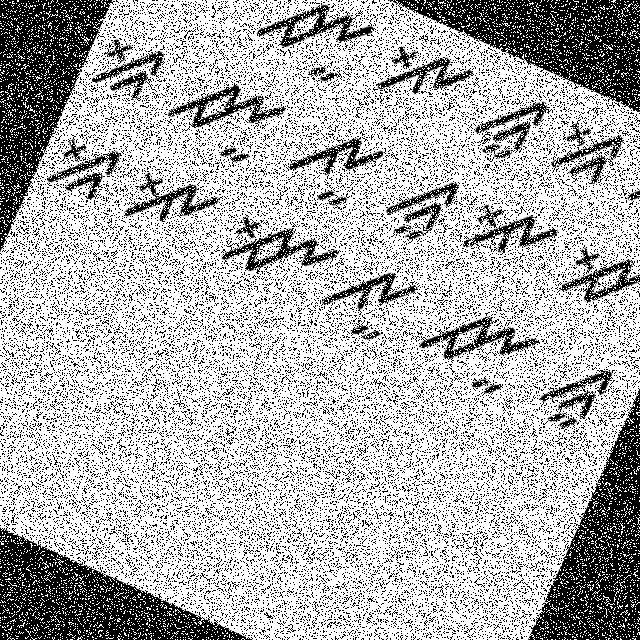ah: (274, 108, 392, 226), (312, 247, 427, 360), (613, 134, 639, 255)
nggah: (368, 152, 472, 265), (526, 340, 624, 444), (460, 73, 553, 176)
nggo: (76, 19, 174, 125), (32, 120, 130, 221), (542, 104, 634, 202)
njah: (154, 55, 294, 183), (408, 283, 547, 409), (240, 0, 391, 106)
njo: (208, 200, 344, 320), (551, 228, 639, 346), (124, 0, 266, 35)
o: (366, 15, 484, 130), (110, 152, 228, 266), (454, 180, 566, 286)
